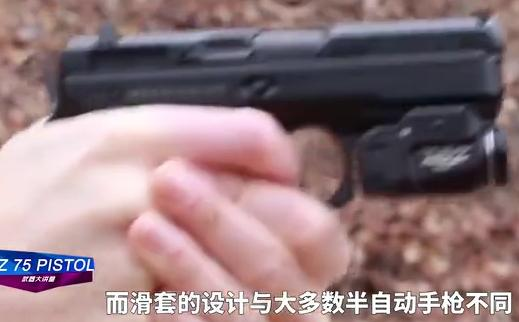gun: (1, 1, 519, 322)
